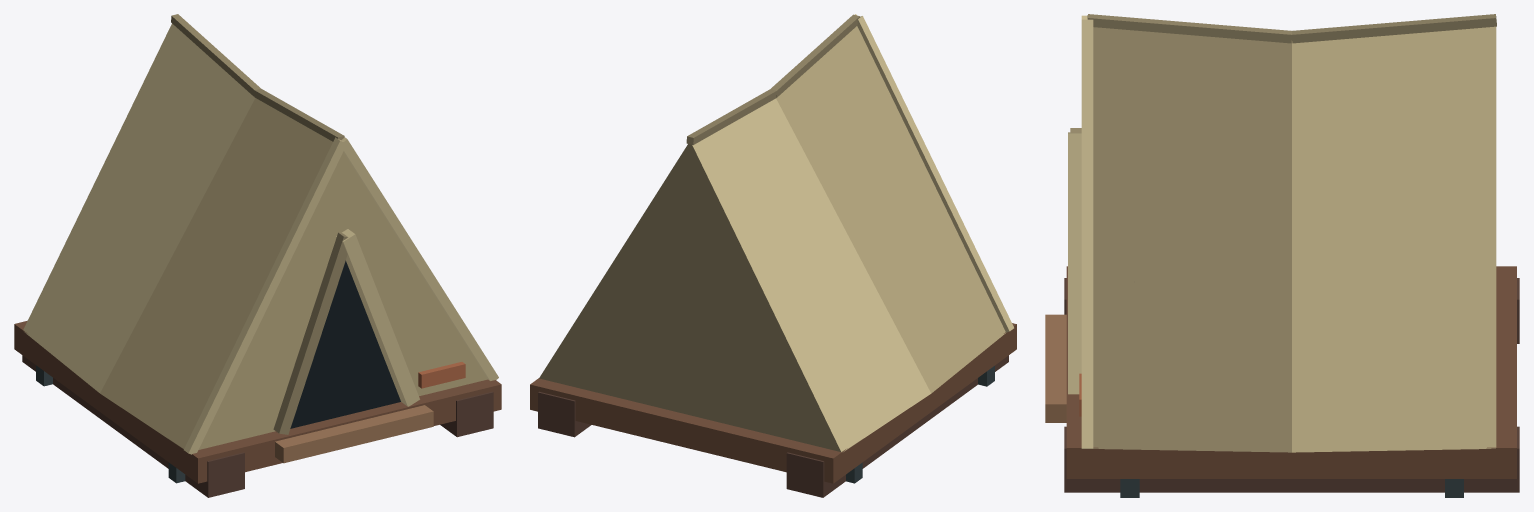
The model's file is Survact-tienda-v01.glb.
The picture shows the model from 3 angles, left to right: view 1: azimuth 30°, elevation 25°; view 2: azimuth 150°, elevation 25°; view 3: azimuth 270°, elevation 25°; orthographic projection. The views are drawn at different scales.
Visible parts, largest first — view 1: Canvas, Body; view 2: Canvas, Body; view 3: Canvas, Body.
Boxes of the visible parts, <box> form: Canvas: <box>23,14,498,454</box>; Body: <box>14,229,501,497</box>; Canvas: <box>539,14,1013,452</box>; Body: <box>530,323,1016,497</box>; Canvas: <box>1079,14,1496,452</box>; Body: <box>1045,128,1519,497</box>.
Bounding box in the file's own units: 0.864 × 0.8342 × 0.9165.
